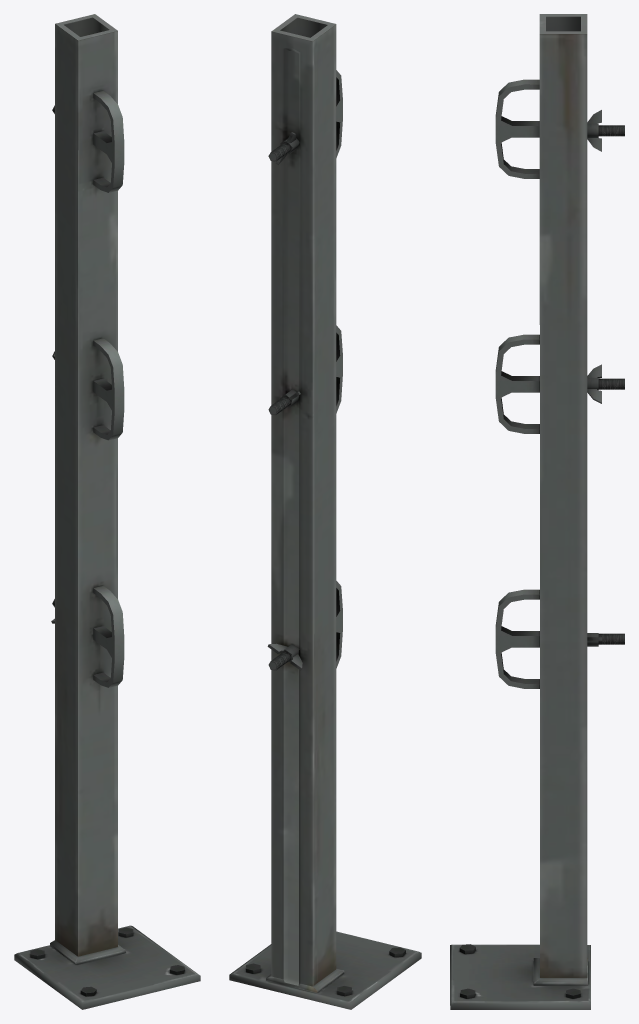
The picture shows the model from 3 angles, left to right: view 1: azimuth 30°, elevation 25°; view 2: azimuth 150°, elevation 25°; view 3: azimuth 270°, elevation 25°; orthographic projection. The views are drawn at different scales.
Parts seen in each view (by area): view 1: body0_model0_lod0_mesh0; view 2: body0_model0_lod0_mesh0; view 3: body0_model0_lod0_mesh0.
Part boxes in pixels (x1,y1,x2,y2): body0_model0_lod0_mesh0: (14,14,200,1009); body0_model0_lod0_mesh0: (229,14,421,1009); body0_model0_lod0_mesh0: (450,14,624,1009).
Size of the model in its own units: 8 by 60 by 9.94.
1 material, 1 textured.
